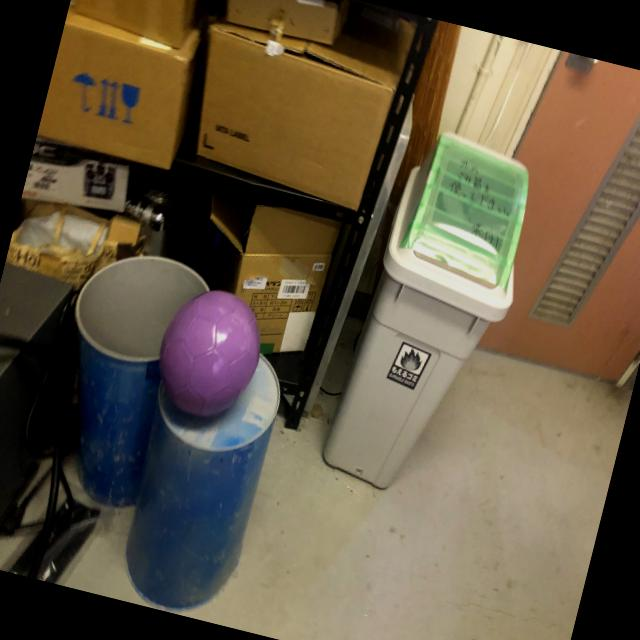purple_ball: (147, 280, 272, 428)
